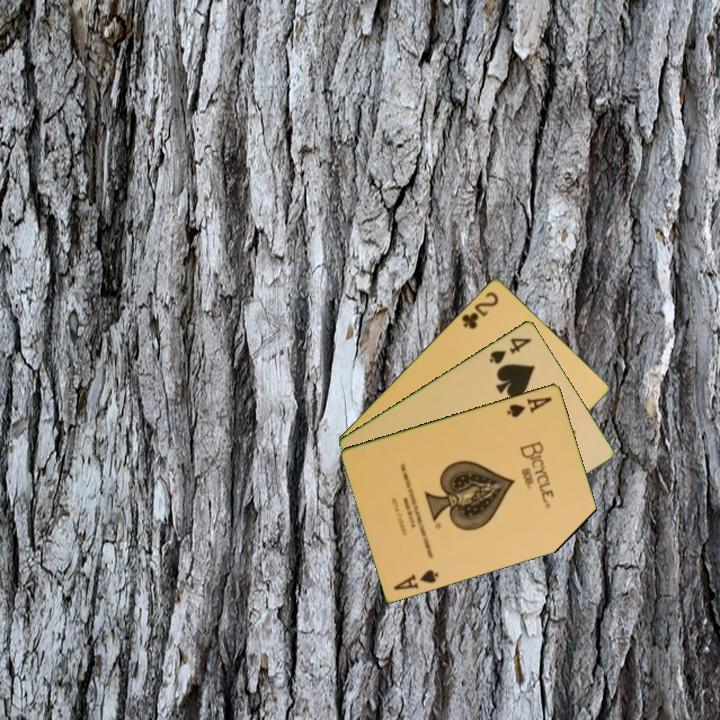2c: (458, 288, 501, 332)
4s: (485, 334, 535, 367)
As: (503, 393, 555, 420), (390, 566, 442, 593)
